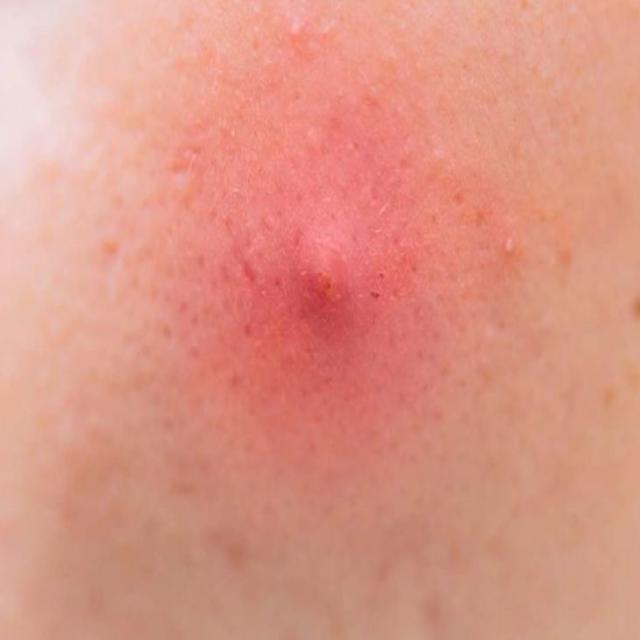blackheads: (289, 213, 356, 325)
